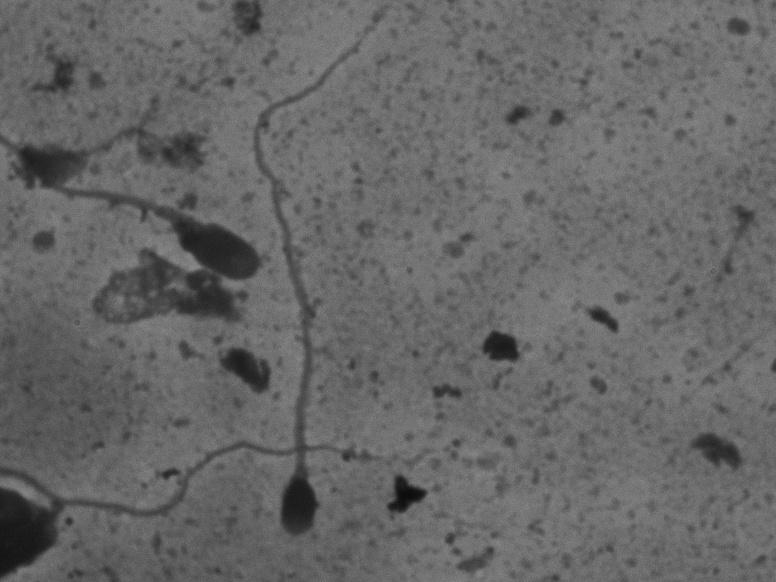Abnormal: (59, 183, 266, 287)
Normal: (240, 19, 388, 543)
